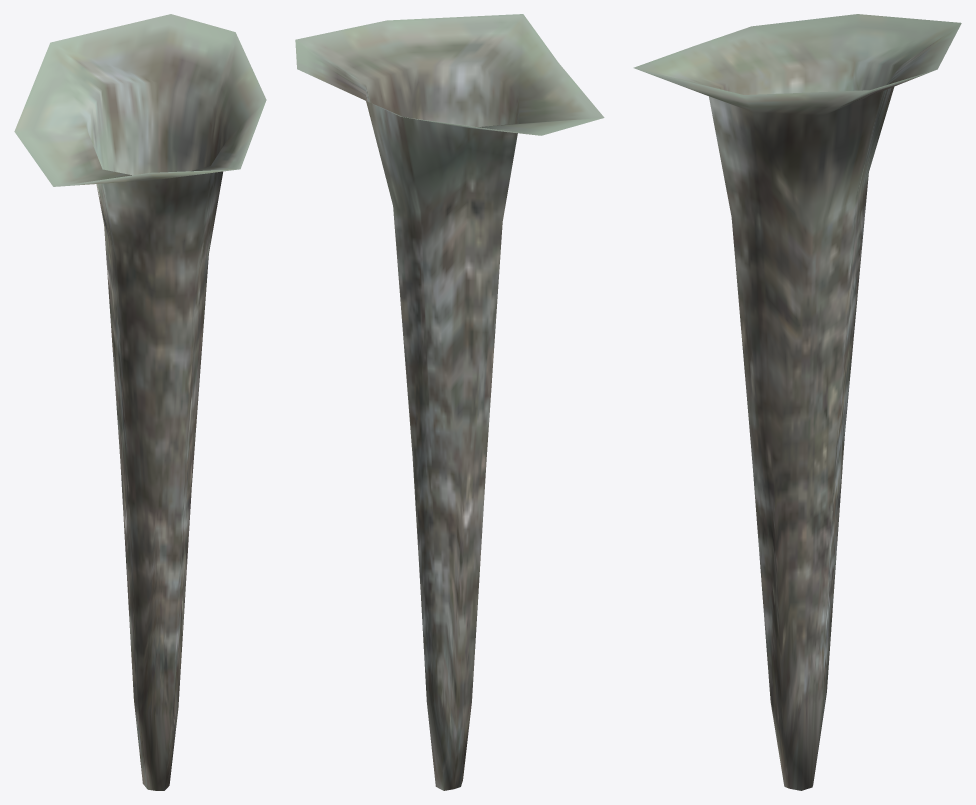
File: TROLLHOLE02_PS-MAINSTALAG62.fbx
3 renders of one model, left to right at view 1: azimuth 30°, elevation 25°; view 2: azimuth 150°, elevation 25°; view 3: azimuth 270°, elevation 25°, orthographic. The views are drawn at different scales.
Visible parts, largest first — view 1: TROLLHOLE02_PS-MAINSTALAG62; view 2: TROLLHOLE02_PS-MAINSTALAG62; view 3: TROLLHOLE02_PS-MAINSTALAG62.
Part boxes in pixels (left/top/right/bottom): TROLLHOLE02_PS-MAINSTALAG62: left=14, top=14, right=266, bottom=790; TROLLHOLE02_PS-MAINSTALAG62: left=295, top=14, right=604, bottom=790; TROLLHOLE02_PS-MAINSTALAG62: left=633, top=14, right=961, bottom=790.
Bounding box in the file's own units: 17516 × 49985 × 19552.
Materials: 1 (1 with a texture image).
